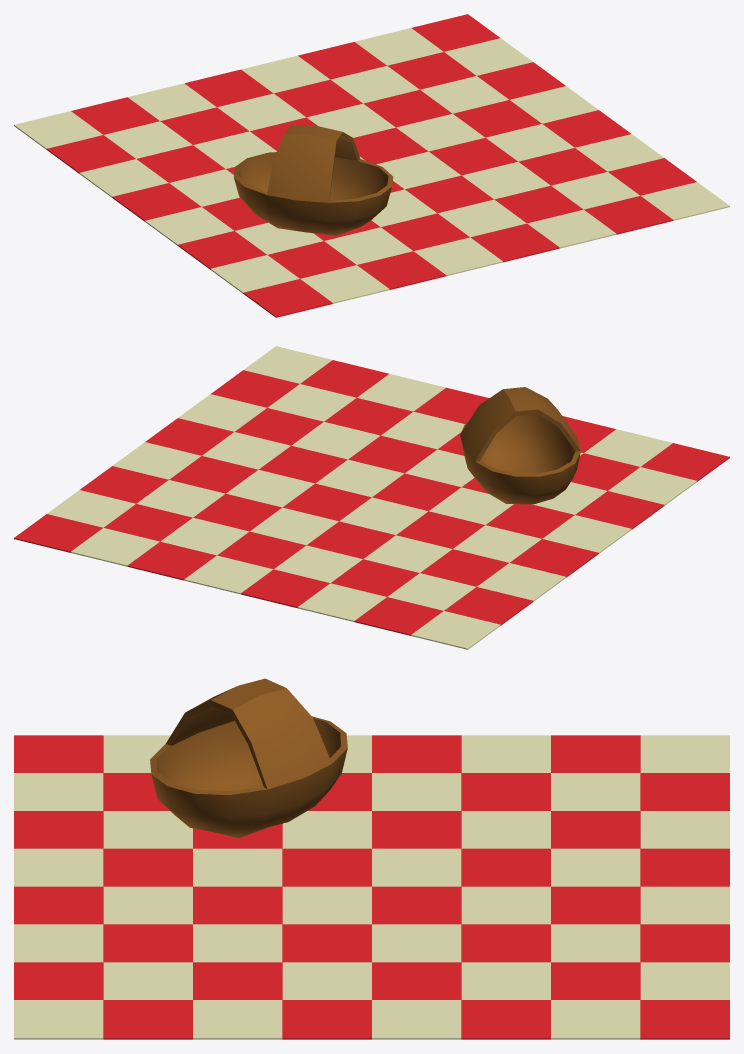
Rendered from PicknicDecke_GameJamAssets.fbx.
3 renders of one model, top to bottom at view 1: azimuth 30°, elevation 25°; view 2: azimuth 150°, elevation 25°; view 3: azimuth 270°, elevation 25°, orthographic. The views are drawn at different scales.
Parts seen in each view (by area): view 1: Plane.001; view 2: Plane.001; view 3: Plane.001.
Boxes of the visible parts, x1,y1,x2,y2 form: Plane.001: (14,14,729,317); Plane.001: (14,346,729,649); Plane.001: (14,678,729,1039).
Bounding box in the file's own units: 400 × 79.31 × 400.
